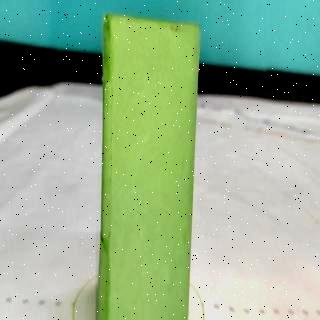greenbox: (98, 9, 204, 318)
